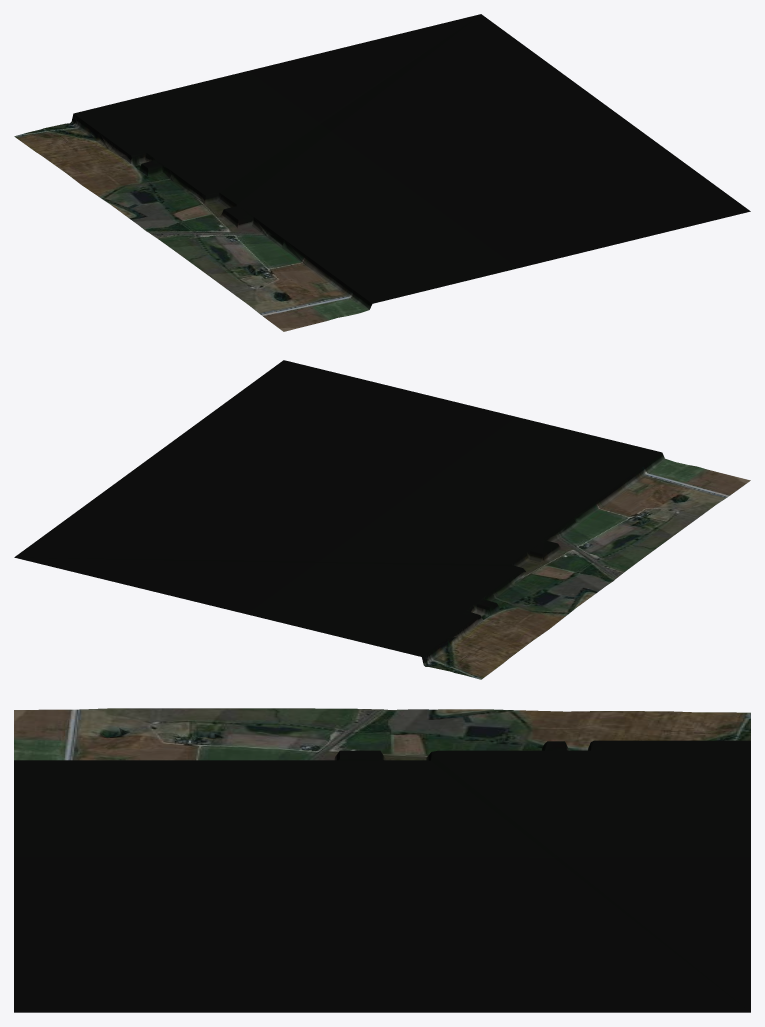
Rendered from map_10_258_430.dae.
3 renders of one model, top to bottom at view 1: azimuth 30°, elevation 25°; view 2: azimuth 150°, elevation 25°; view 3: azimuth 270°, elevation 25°, orthographic. The views are drawn at different scales.
Parts seen in each view (by area): view 1: Ter0; view 2: Ter0; view 3: Ter0.
Part boxes in pixels (<box>): Ter0: <box>14,14,750,331</box>; Ter0: <box>14,360,750,679</box>; Ter0: <box>14,708,750,1012</box>.
Size of the model in its own units: 2044 by 2044 by 44.2.
3 materials, 3 textured.
